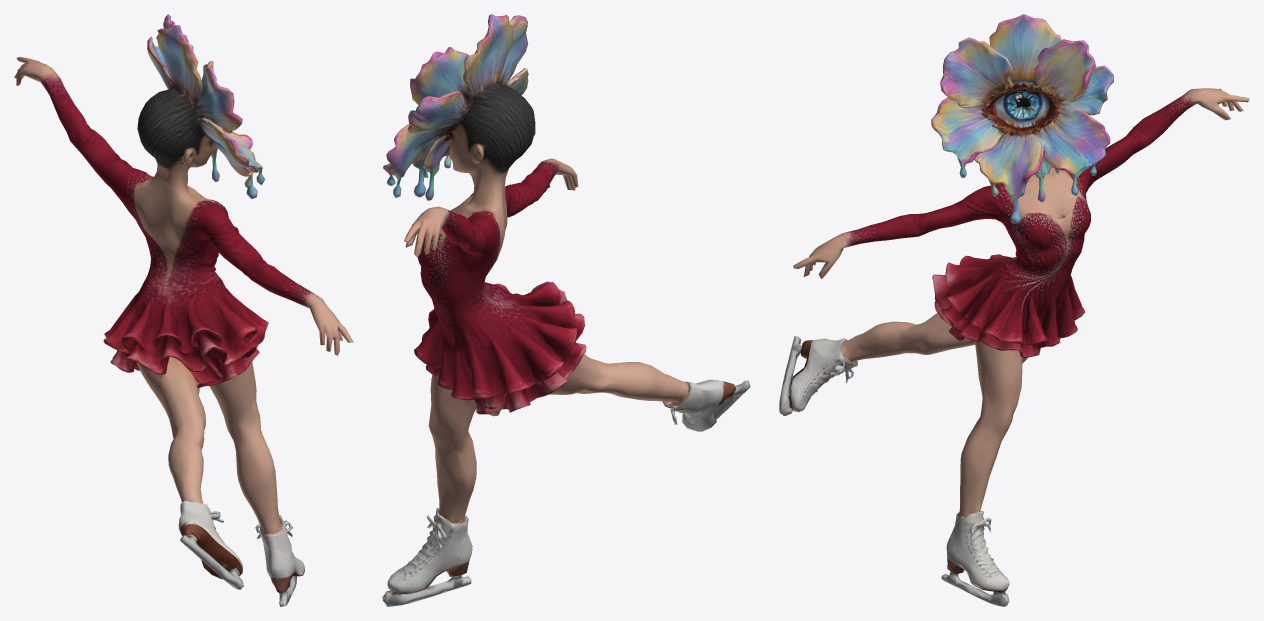
File: lt_skater.glb
3 views of the same model, side by side, from view 1: azimuth 30°, elevation 25°; view 2: azimuth 150°, elevation 25°; view 3: azimuth 270°, elevation 25° (orthographic). The views are drawn at different scales.
Parts seen in each view (by area): view 1: tripo_node_6ad2d3a1-32ea-4695-8624-3e7a1664247e; view 2: tripo_node_6ad2d3a1-32ea-4695-8624-3e7a1664247e; view 3: tripo_node_6ad2d3a1-32ea-4695-8624-3e7a1664247e.
Part boxes in pixels (bbox=[...]): tripo_node_6ad2d3a1-32ea-4695-8624-3e7a1664247e: bbox=[14, 14, 353, 606]; tripo_node_6ad2d3a1-32ea-4695-8624-3e7a1664247e: bbox=[382, 14, 750, 606]; tripo_node_6ad2d3a1-32ea-4695-8624-3e7a1664247e: bbox=[779, 14, 1249, 606].
Bounding box in the file's own units: 0.4118 × 1 × 0.7833.
Materials: 1 (1 with a texture image).
